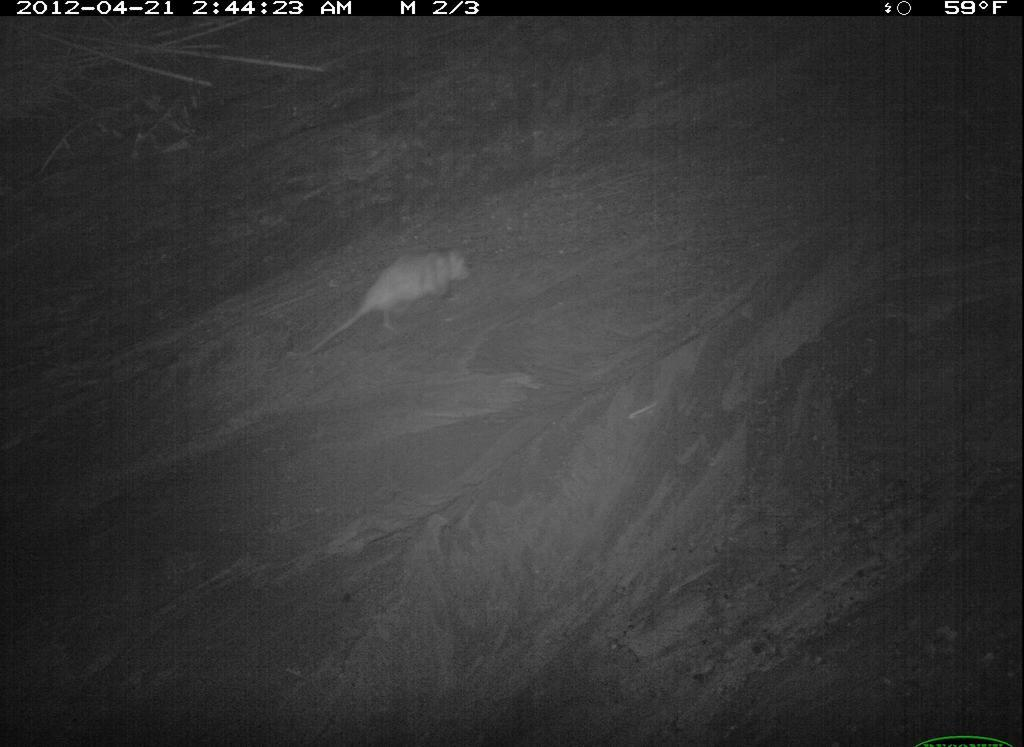opossum: (600, 482, 952, 735)
